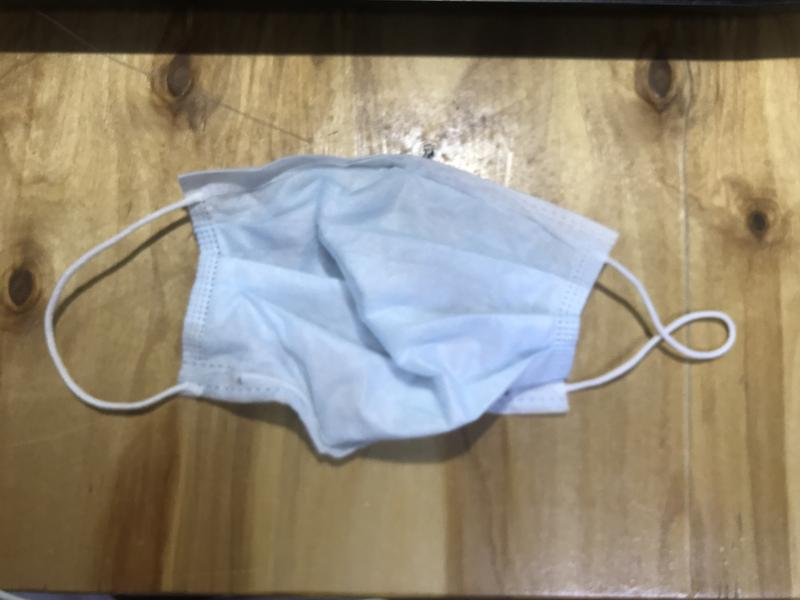medical_mask: (42, 156, 737, 461)
